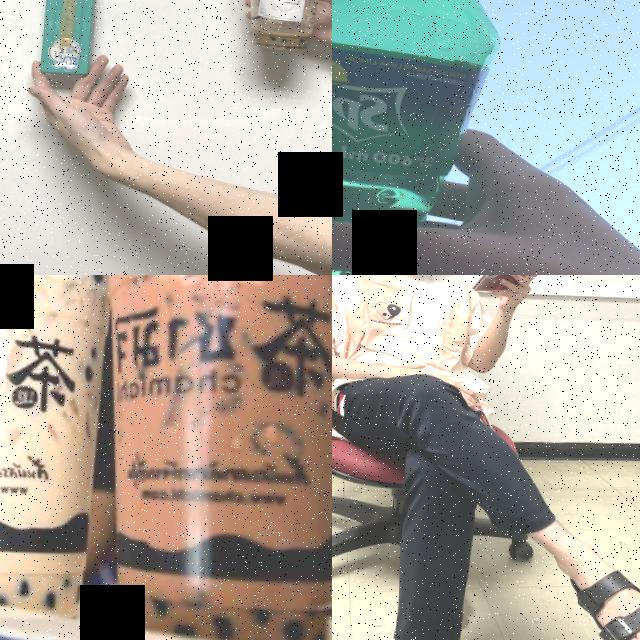bottle: (332, 0, 507, 275)
cup: (71, 275, 332, 640), (0, 275, 112, 619), (236, 0, 332, 52)
